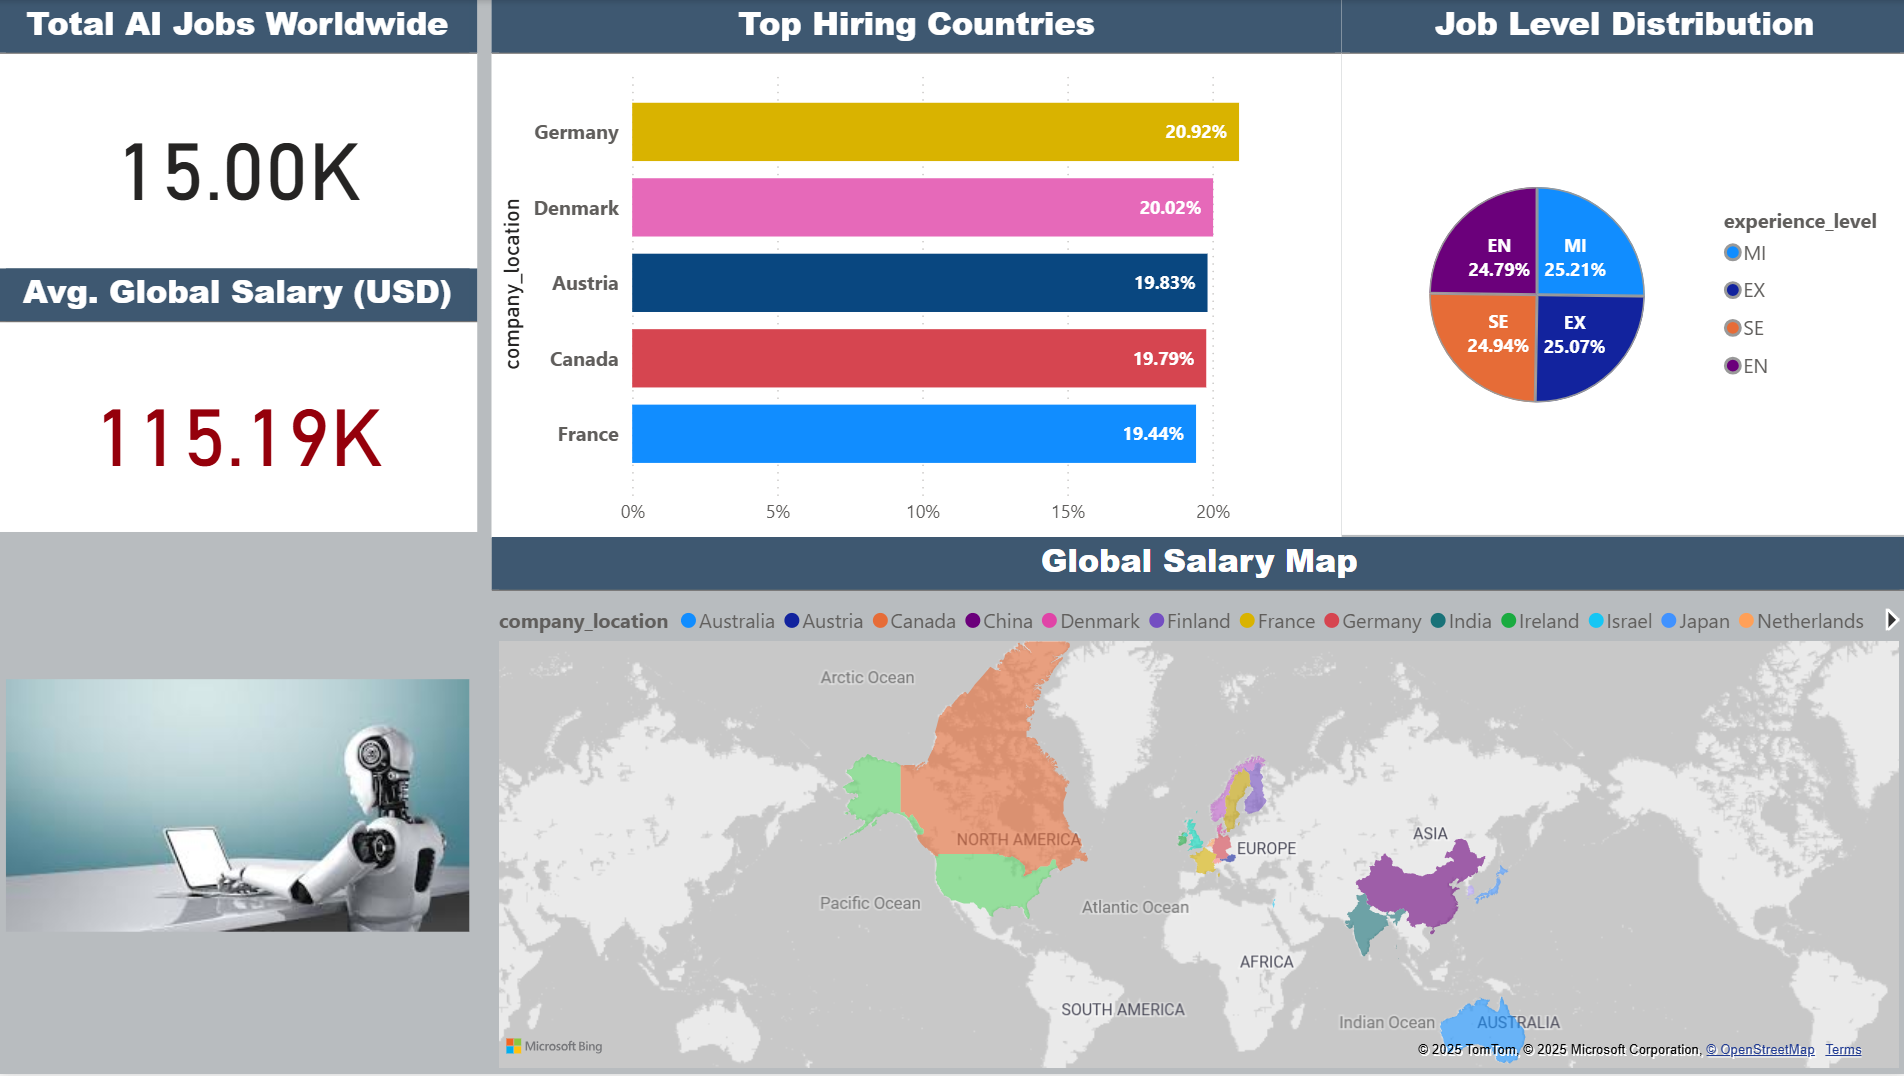

Layout of this report page (visuals, bound fields, positions):
{"tool":"powerbi","page":{"name":"Overview","canvas":[1280,720],"ordinal":0},"visuals":[{"type":"card","title":"Total AI Jobs Worldwide","fields":{"Values":["Count(ai_job_dataset.job_id)"]},"box":[0,0,321.1,180],"z":0},{"type":"card","title":"Avg. Global Salary (USD)","fields":{"Values":["ai_job_dataset.average_salary"]},"box":[0,180,321.1,176.7],"z":1000},{"type":"barChart","title":"Top Hiring Countries","fields":{"Category":["Top5_Countries_By_JobCount.company_location"],"Y":["Sum(Top5_Countries_By_JobCount.JobCount)"]},"box":[331.4,0,570.1,360.4],"z":2000},{"type":"pieChart","title":"Job Level Distribution","fields":{"Y":["Count(ai_job_dataset.job_id)"],"Category":["ai_job_dataset.experience_level"]},"box":[901.1,0,378.9,358.9],"z":3000},{"type":"filledMap","title":"Global Salary Map","fields":{"Category":["ai_job_dataset.company_location"],"Series":["ai_job_dataset.company_location"]},"box":[331.1,360,948.9,360],"z":4000},{"type":"image","box":[0,360,321.1,360],"z":5000}]}

Visuals, with their boxes in screenshot pixels (x1, y1, x2, y2), scaled from the page's 1280x720 canvas onto the 1904x1076 screenshot:
"Total AI Jobs Worldwide" card: [0, 0, 478, 269]
"Avg. Global Salary (USD)" card: [0, 269, 478, 533]
"Top Hiring Countries" barChart: [493, 0, 1341, 539]
"Job Level Distribution" pieChart: [1340, 0, 1903, 536]
"Global Salary Map" filledMap: [493, 538, 1903, 1075]
image: [0, 538, 478, 1075]
